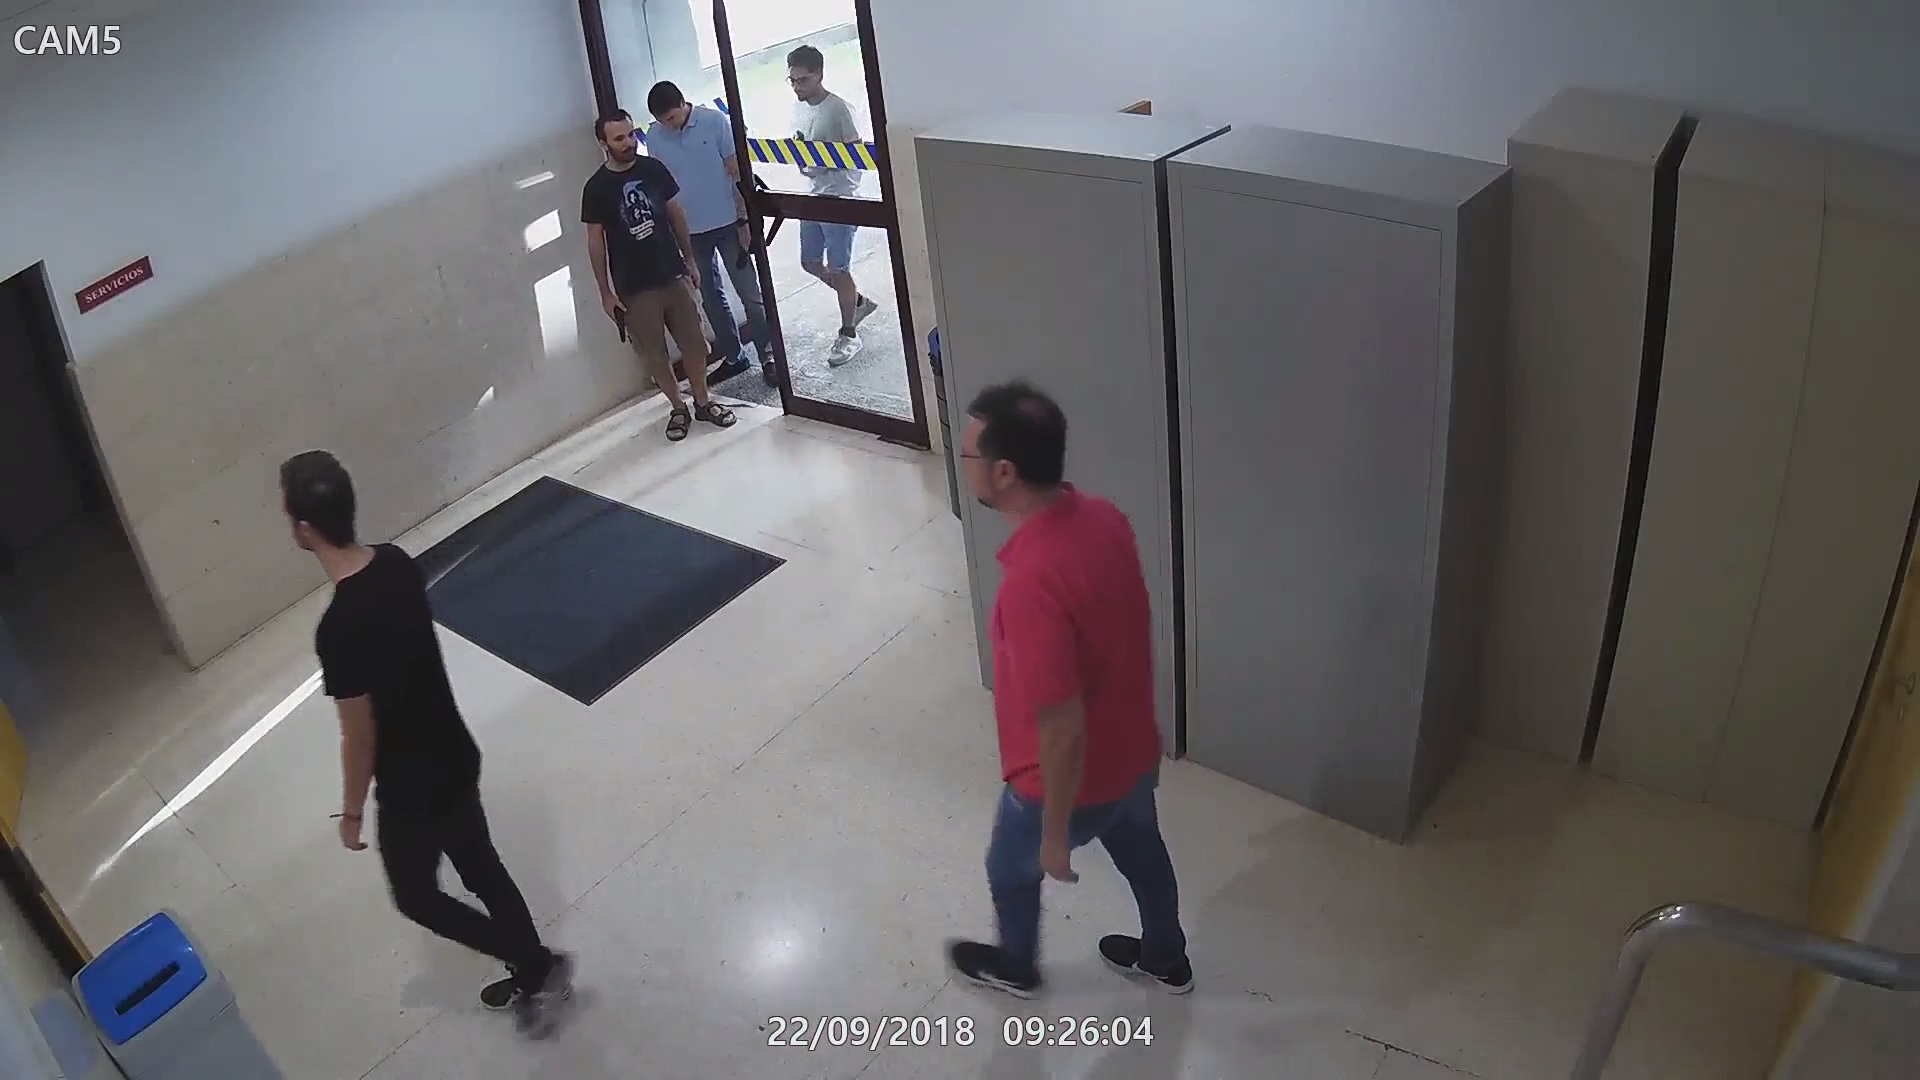pistol: (604, 290, 630, 342)
